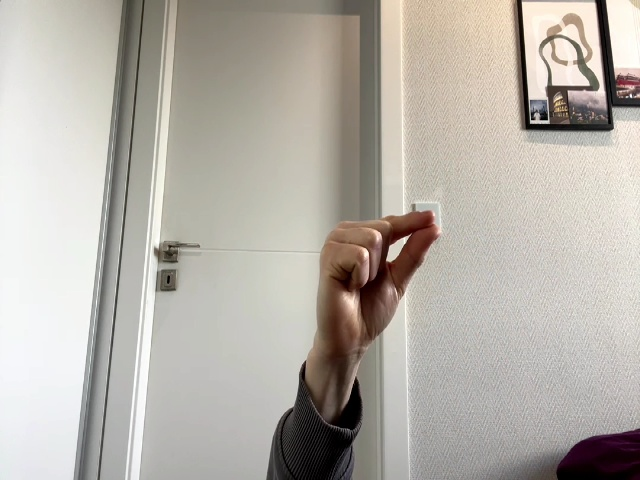P: (317, 210, 441, 361)
